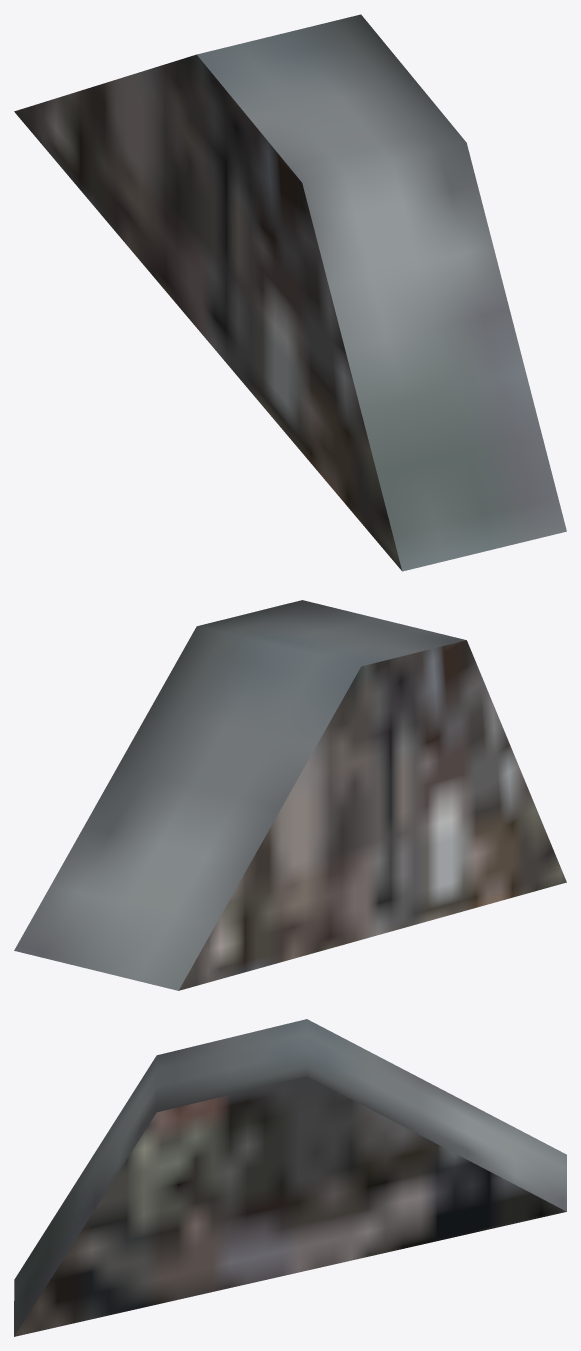
The model's file is tie_fighter_debris_f_l2.fbx.
3 views of the same model, one above another, from view 1: azimuth 30°, elevation 25°; view 2: azimuth 150°, elevation 25°; view 3: azimuth 270°, elevation 25° (orthographic). The views are drawn at different scales.
Parts seen in each view (by area): view 1: mesh_node; view 2: mesh_node; view 3: mesh_node.
Part boxes in pixels (box(x1,y1,x2,y2)): mesh_node: box(14, 14, 566, 571); mesh_node: box(14, 600, 566, 990); mesh_node: box(14, 1019, 566, 1336).
Size of the model in its own units: 0.1555 by 0.3312 by 0.6364.
